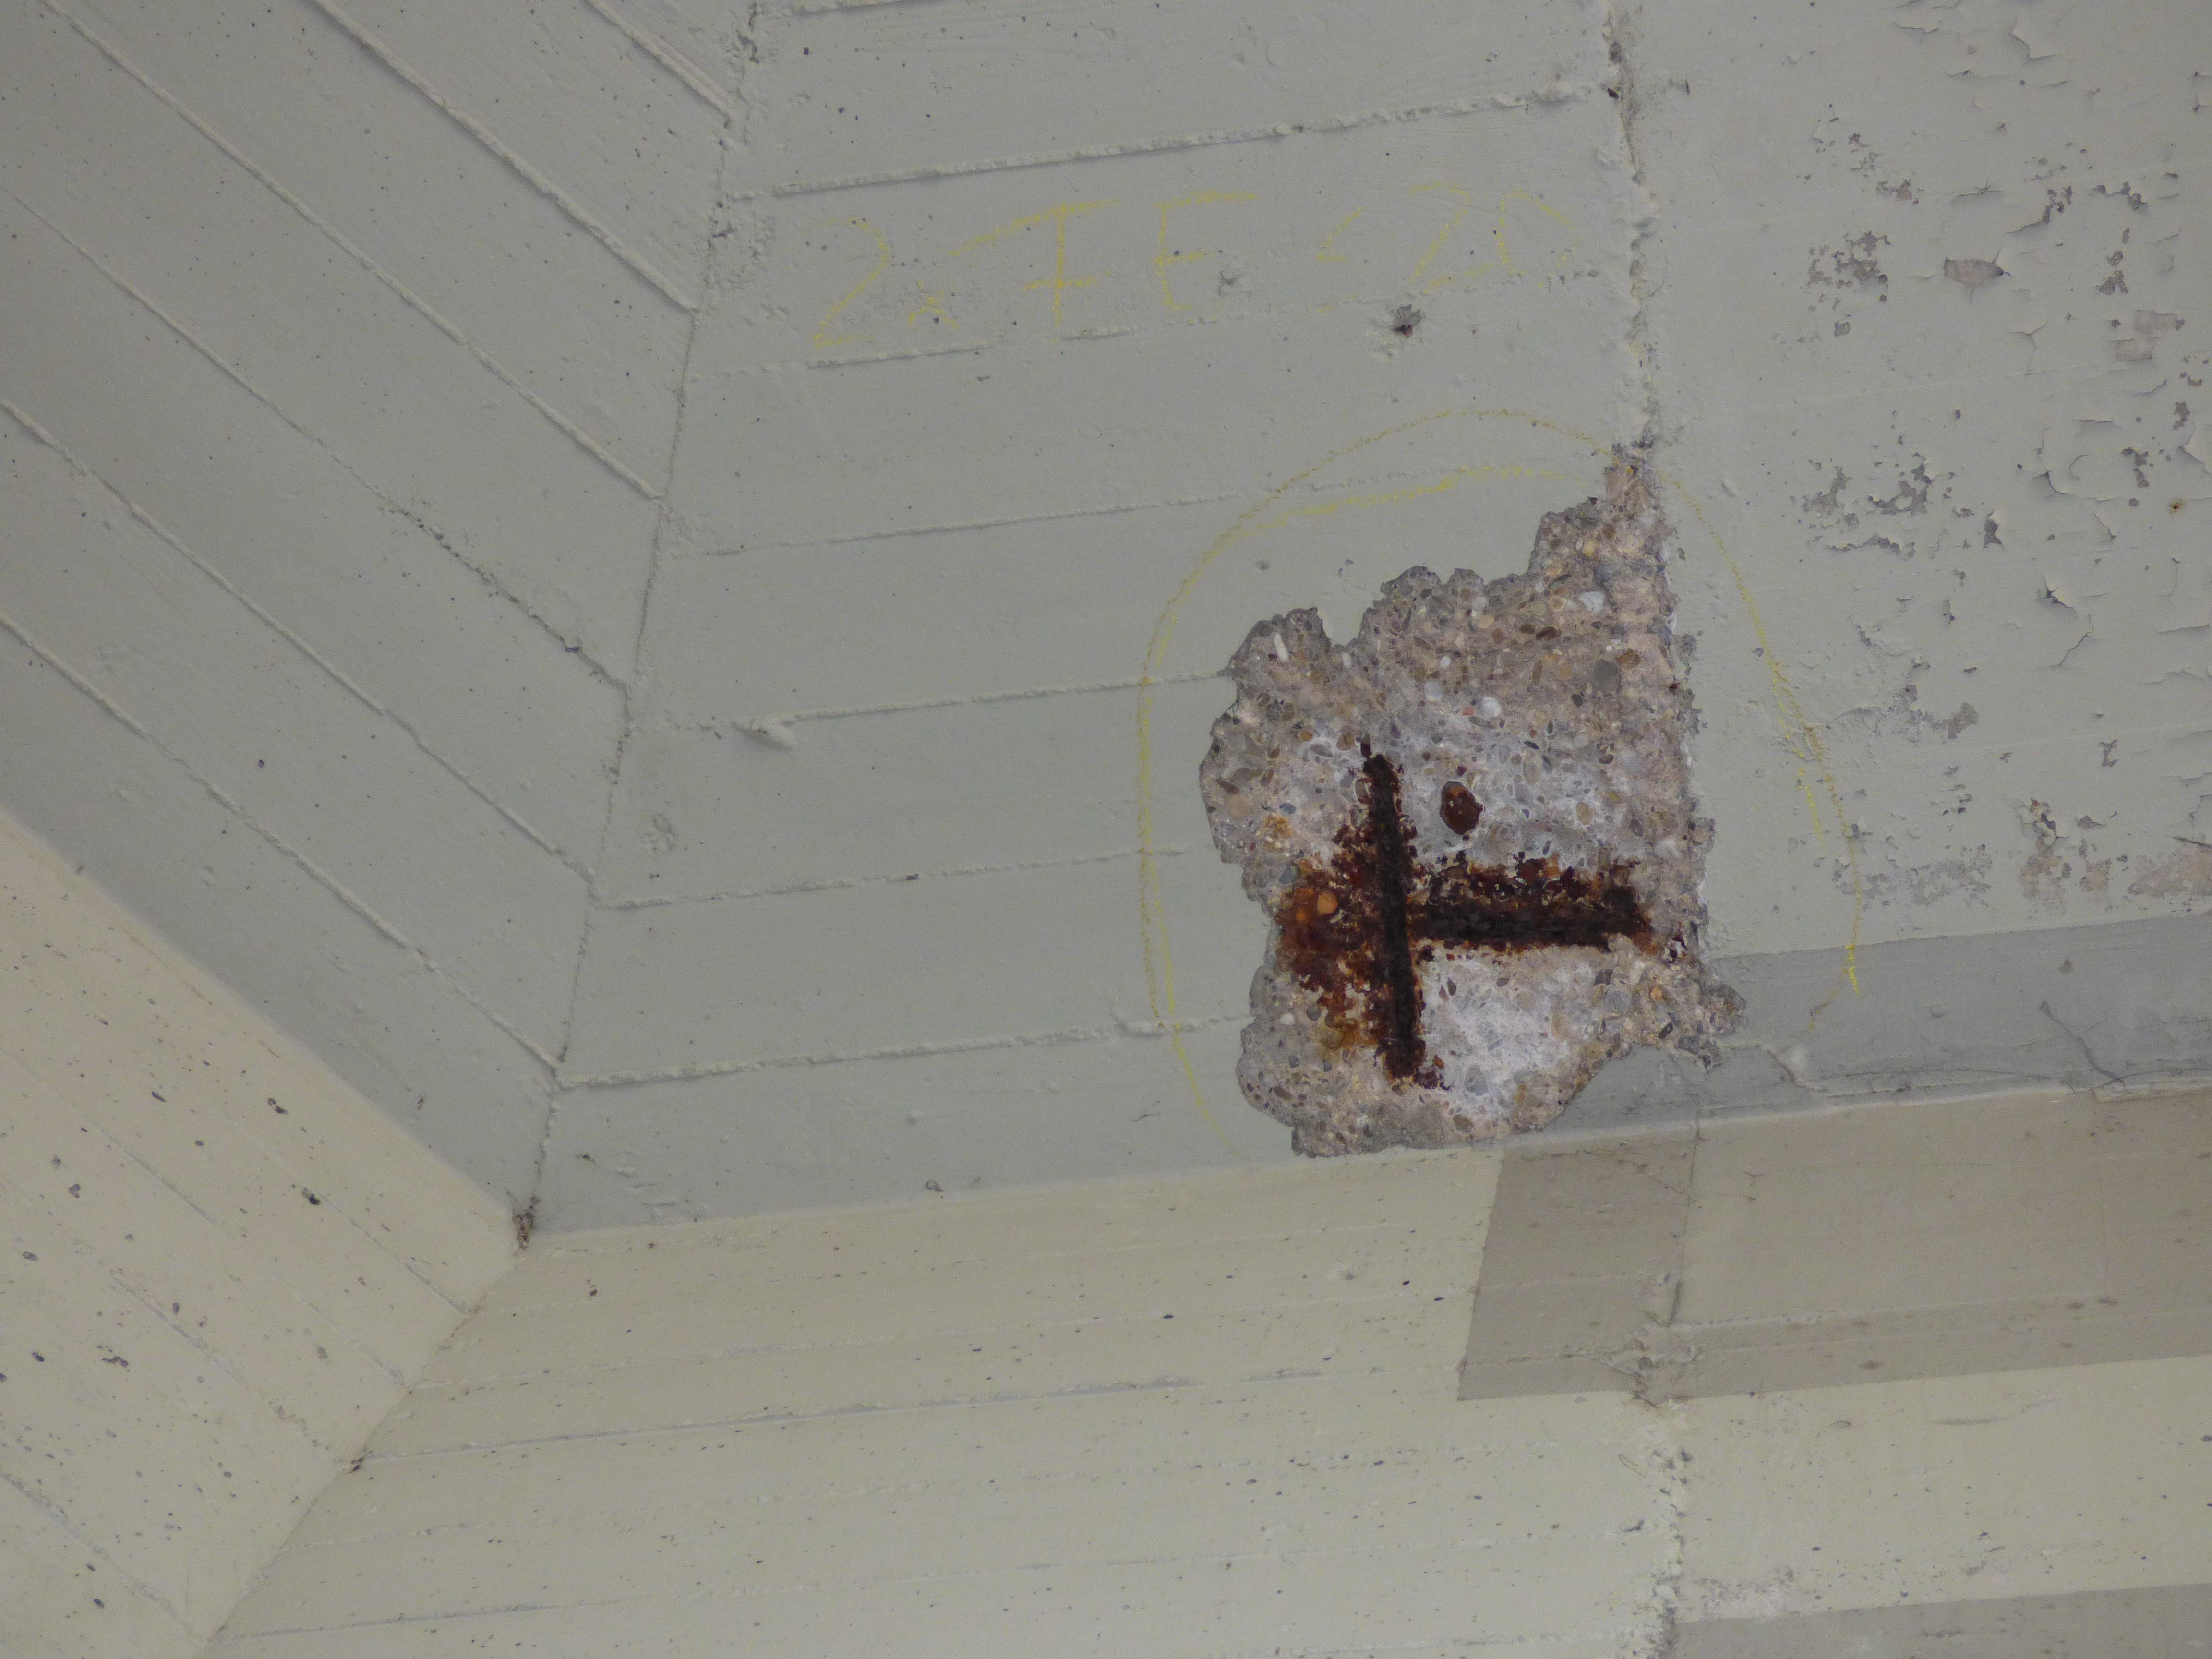Corrosion: (1273, 821, 1362, 1056), (1439, 781, 1482, 835)
Exposed reinforcement: (1362, 755, 1416, 1049), (1426, 910, 1630, 936)
Spalling: (1195, 444, 1749, 1161)
